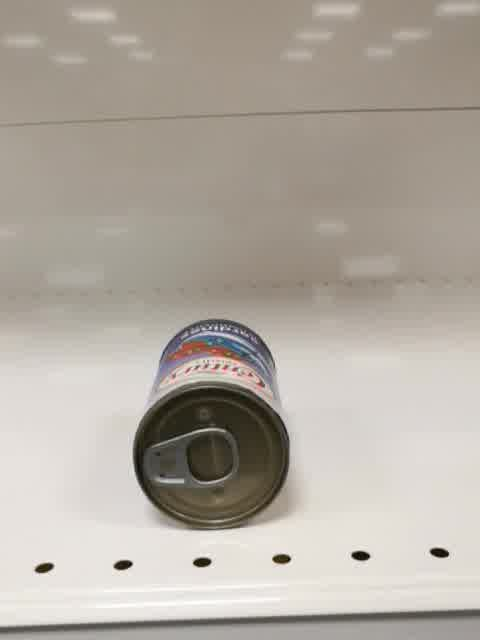sardine: (132, 318, 290, 532)
